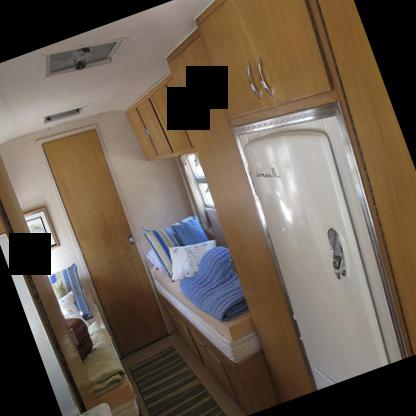suitcase: (64, 318, 92, 362)
